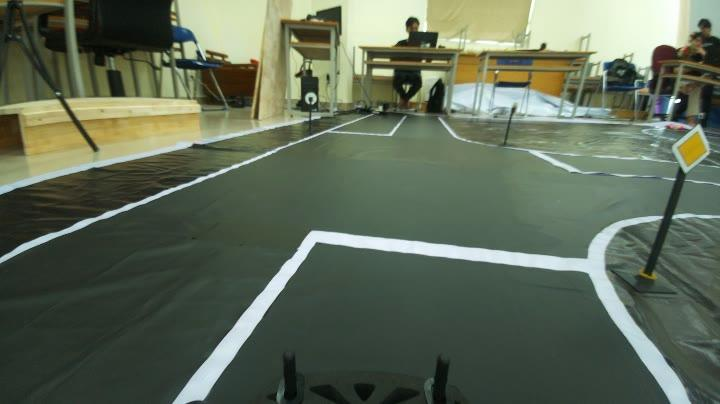priority: (668, 124, 716, 176)
